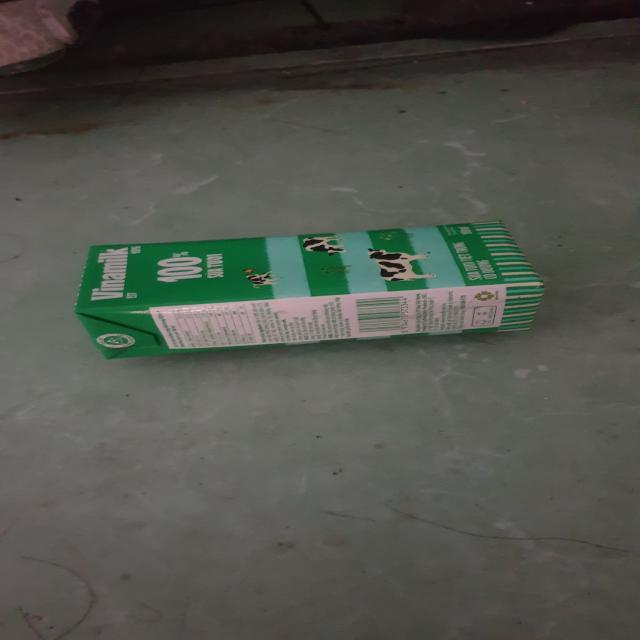Vina: (72, 216, 554, 363)
